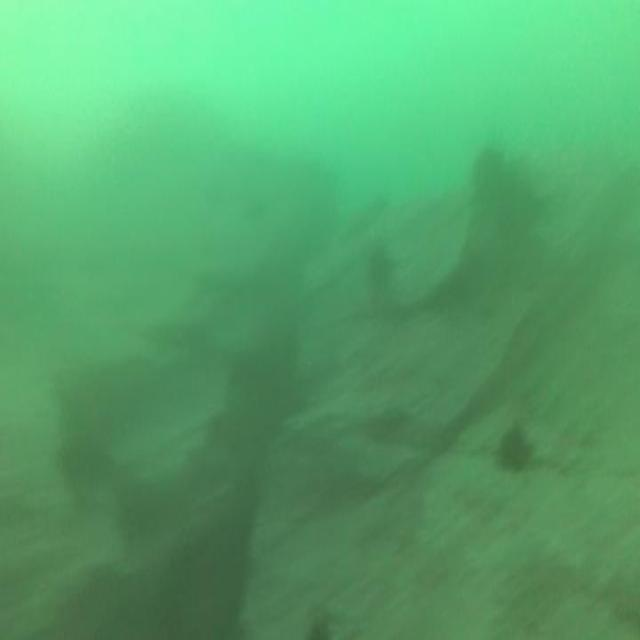echinus: (468, 141, 511, 215), (491, 417, 537, 477), (364, 240, 396, 297), (302, 610, 335, 640)
